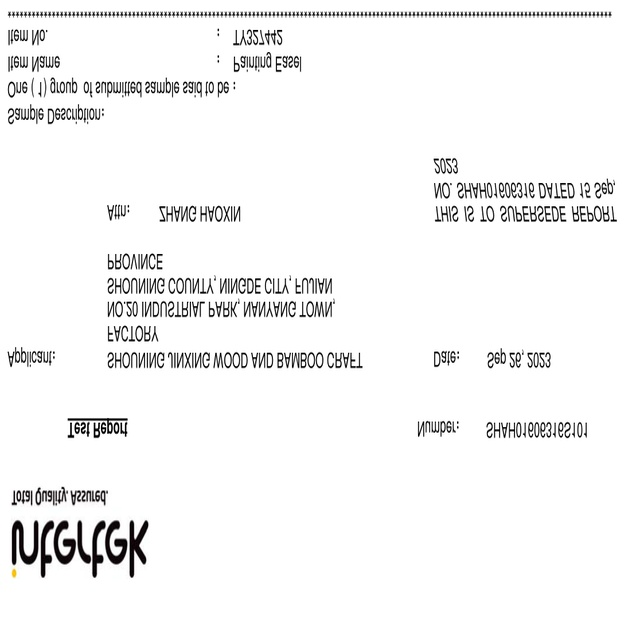intertek: (6, 513, 152, 578)
